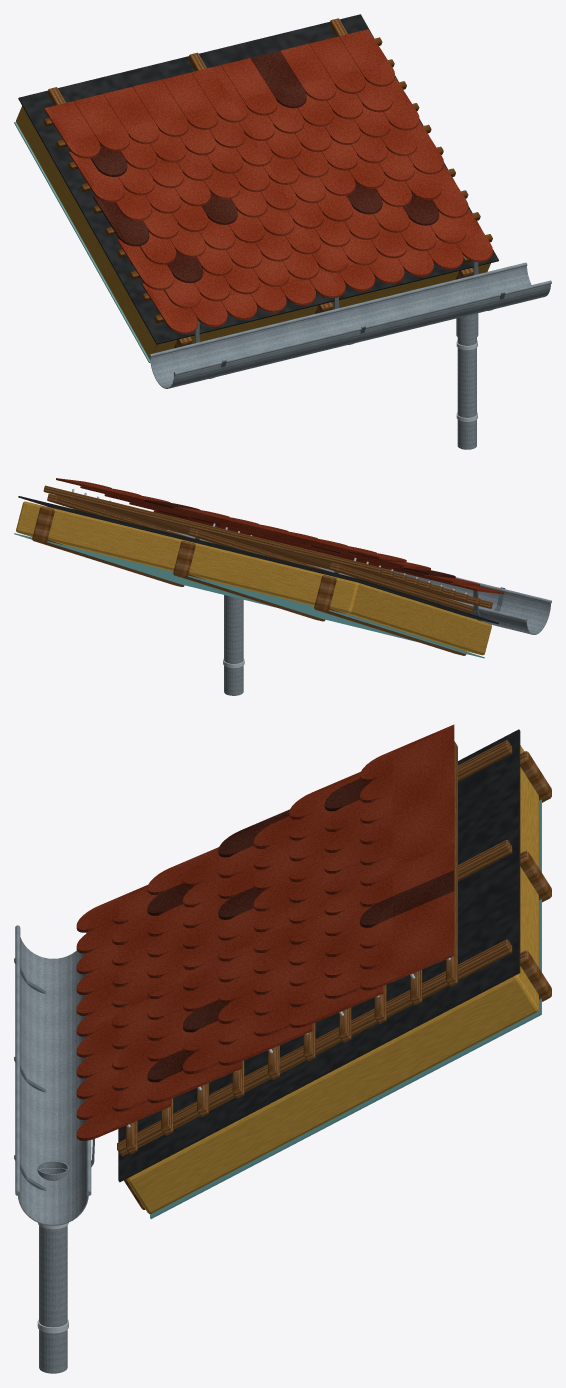
The model's file is modell.glb.
The picture shows the model from 3 angles, top to bottom: view 1: azimuth 30°, elevation 25°; view 2: azimuth 150°, elevation 25°; view 3: azimuth 270°, elevation 25°; orthographic projection. The views are drawn at different scales.
Parts seen in each view (by area): view 1: g06-deckziegel_deckung, g06-rinne_, g06-zusatzebene_zusatzebene, g06-deckziegel_deckung.001, g06-daemmung_daemmung, g06-fallrohr_, g06-lattung_lattung, g06-luftdichtheit_luftdichtheit, g06-stutzen_; view 2: g06-daemmung_daemmung, g06-lattung_lattung, g06-deckziegel_deckung, g06-sparren_tragwerk, g06-luftdichtheit_luftdichtheit, g06-rinne_, g06-zusatzebene_zusatzebene, g06-fallrohr_, g06-deckziegel_deckung.001; view 3: g06-deckziegel_deckung, g06-zusatzebene_zusatzebene, g06-daemmung_daemmung, g06-rinne_, g06-lattung_lattung, g06-deckziegel_deckung.001, g06-fallrohr_, g06-luftdichtheit_luftdichtheit, g06-sparren_tragwerk.
Part boxes in pixels (x1=…): g06-deckziegel_deckung: x1=44, y1=29, x2=492, y2=334; g06-rinne_: x1=149, y1=262, x2=551, y2=388; g06-zusatzebene_zusatzebene: x1=18, y1=14, x2=498, y2=344; g06-deckziegel_deckung.001: x1=90, y1=50, x2=438, y2=283; g06-daemmung_daemmung: x1=16, y1=106, x2=490, y2=359; g06-fallrohr_: x1=457, y1=337, x2=476, y2=449; g06-lattung_lattung: x1=43, y1=18, x2=492, y2=323; g06-luftdichtheit_luftdichtheit: x1=14, y1=122, x2=150, y2=362; g06-stutzen_: x1=456, y1=313, x2=478, y2=339; g06-daemmung_daemmung: x1=16, y1=501, x2=491, y2=655; g06-lattung_lattung: x1=43, y1=485, x2=492, y2=613; g06-deckziegel_deckung: x1=56, y1=478, x2=504, y2=594; g06-sparren_tragwerk: x1=32, y1=506, x2=466, y2=655; g06-luftdichtheit_luftdichtheit: x1=14, y1=533, x2=484, y2=658; g06-rinne_: x1=170, y1=530, x2=551, y2=634; g06-zusatzebene_zusatzebene: x1=18, y1=496, x2=498, y2=624; g06-fallrohr_: x1=224, y1=595, x2=243, y2=695; g06-deckziegel_deckung.001: x1=144, y1=499, x2=455, y2=578; g06-deckziegel_deckung: x1=76, y1=724, x2=454, y2=1140; g06-zusatzebene_zusatzebene: x1=118, y1=729, x2=520, y2=1182; g06-daemmung_daemmung: x1=127, y1=745, x2=538, y2=1213; g06-rinne_: x1=15, y1=925, x2=91, y2=1225; g06-lattung_lattung: x1=117, y1=740, x2=512, y2=1156; g06-deckziegel_deckung.001: x1=147, y1=779, x2=454, y2=1082; g06-fallrohr_: x1=39, y1=1225, x2=67, y2=1373; g06-luftdichtheit_luftdichtheit: x1=150, y1=800, x2=541, y2=1218; g06-sparren_tragwerk: x1=124, y1=751, x2=551, y2=1209.
Bounding box in the file's own units: 2.3 × 1.78 × 1.97.
Materials: 9 (6 with a texture image).
